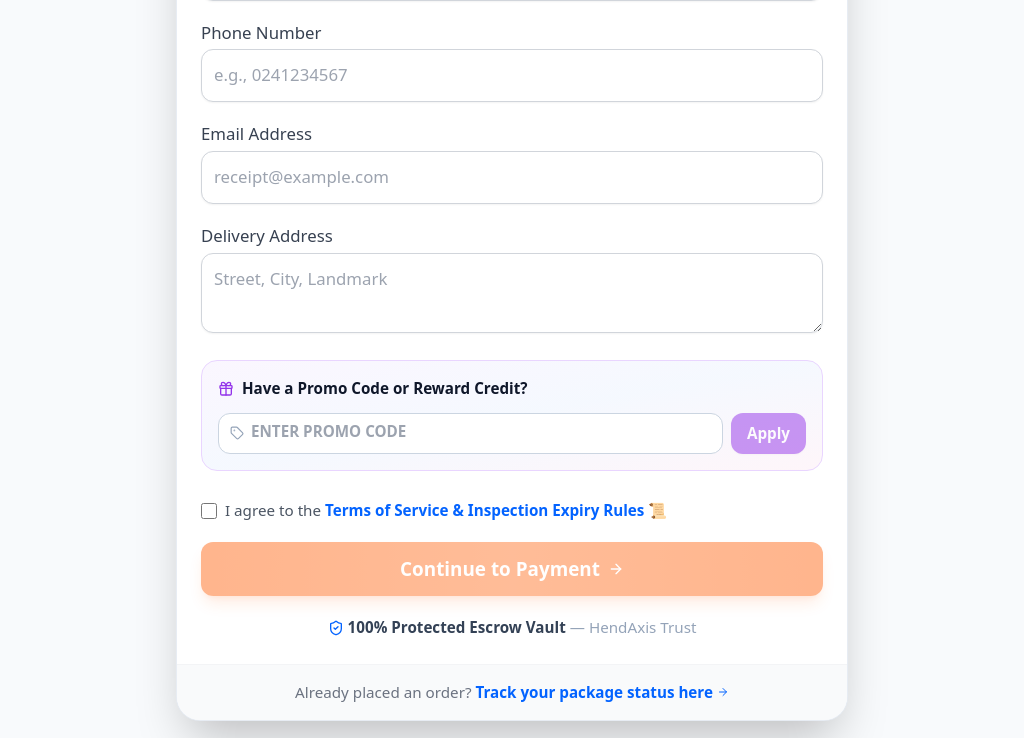
Test case: PublicCheckoutView Integration Tests › displays error when buyer has already redeemed the promo code maximum allowed times
(page scrolled)
Type "FIRST20" into the field with placeholder "ENTER PROMO CODE" at (470, 433), box [218,413,723,454]
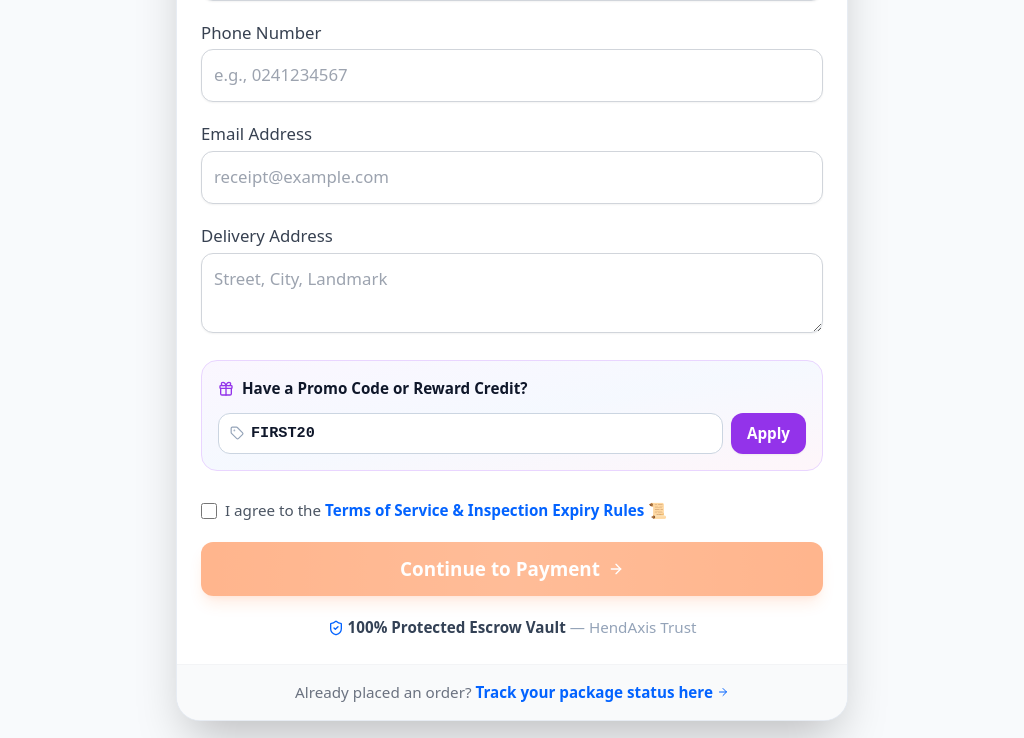
Click the button "Apply" at (768, 433), box [731,413,806,454]
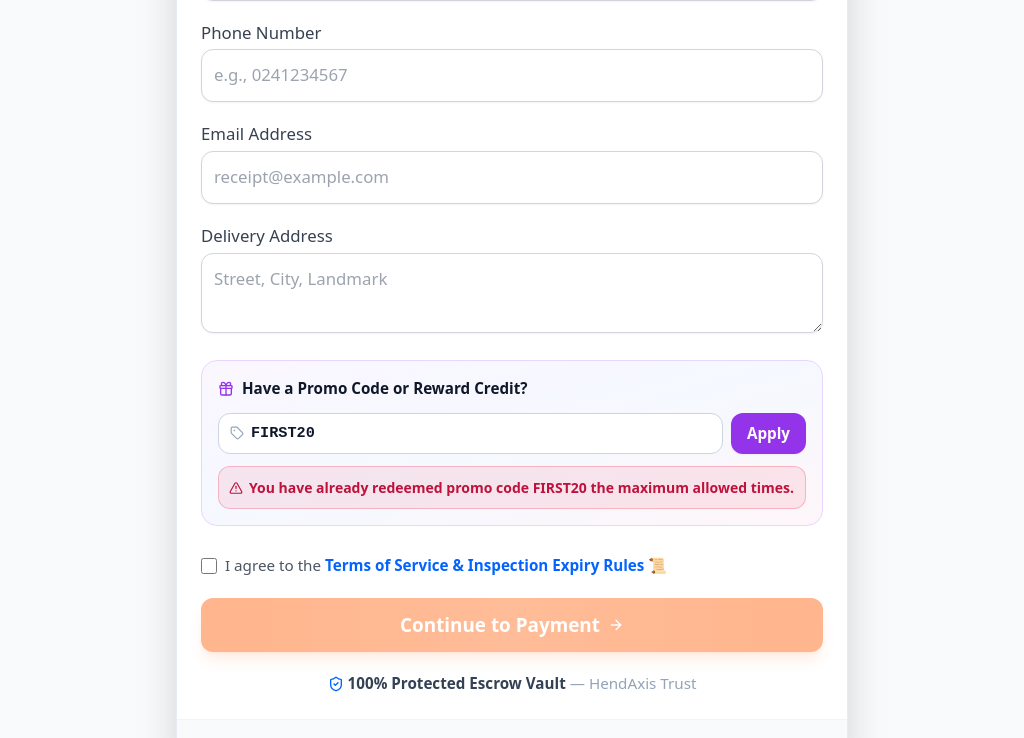
Expected: the text "already redeemed promo code FIRST20" is shown, [249,478,794,497]
